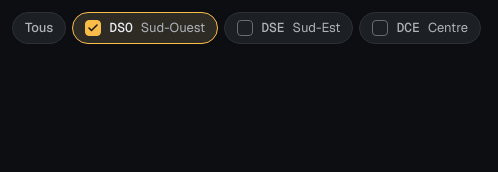
Scenario: DistrictPicker › groupe de puces aria-pressed, « Tous », champs cachés répétés, change à chaque bascule
Later steps or results of the test are not shown.
Expected: the element named "District" is shown, left=12, top=12, right=481, bottom=44
Click the button "DSE Sud-Est".
click(289, 28)  # box left=224, top=12, right=354, bottom=44
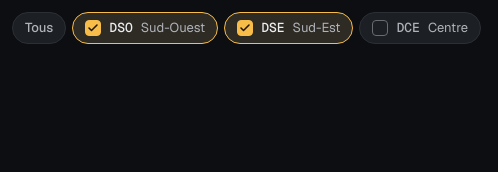
Click the button "Tous".
click(39, 28)  # box left=12, top=12, right=66, bottom=44
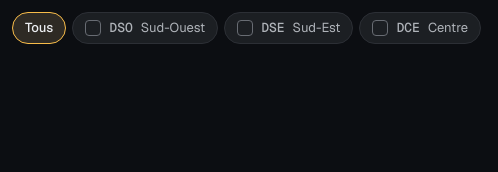
Expected: the button "Tous" is pressed, left=12, top=12, right=66, bottom=44
